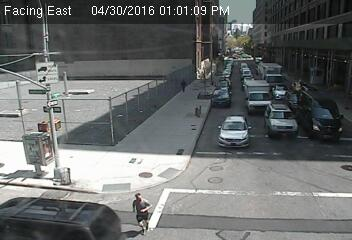neg: (218, 108, 250, 151), (21, 134, 47, 168), (35, 61, 56, 89), (206, 163, 224, 186)
pos: (121, 188, 157, 236), (176, 76, 190, 95)
